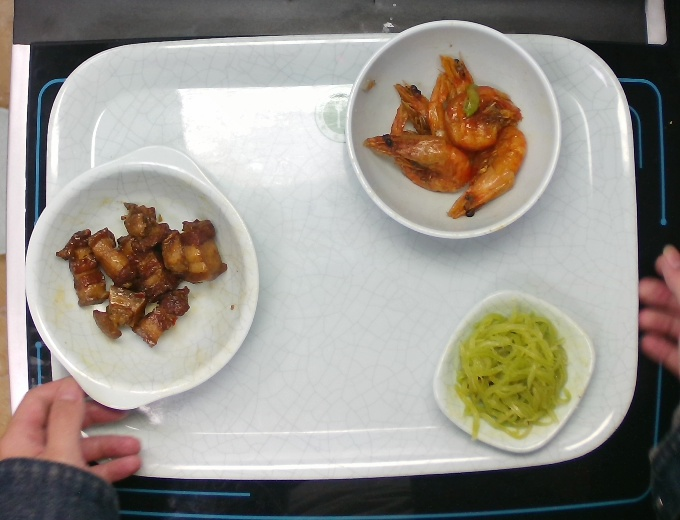JYsf-Fan_Wan: (326, 14, 571, 241)
JYsf-Shuang_Er_Wan: (14, 131, 275, 429)
JYsf-Si_Fang_Die: (416, 276, 605, 457)
